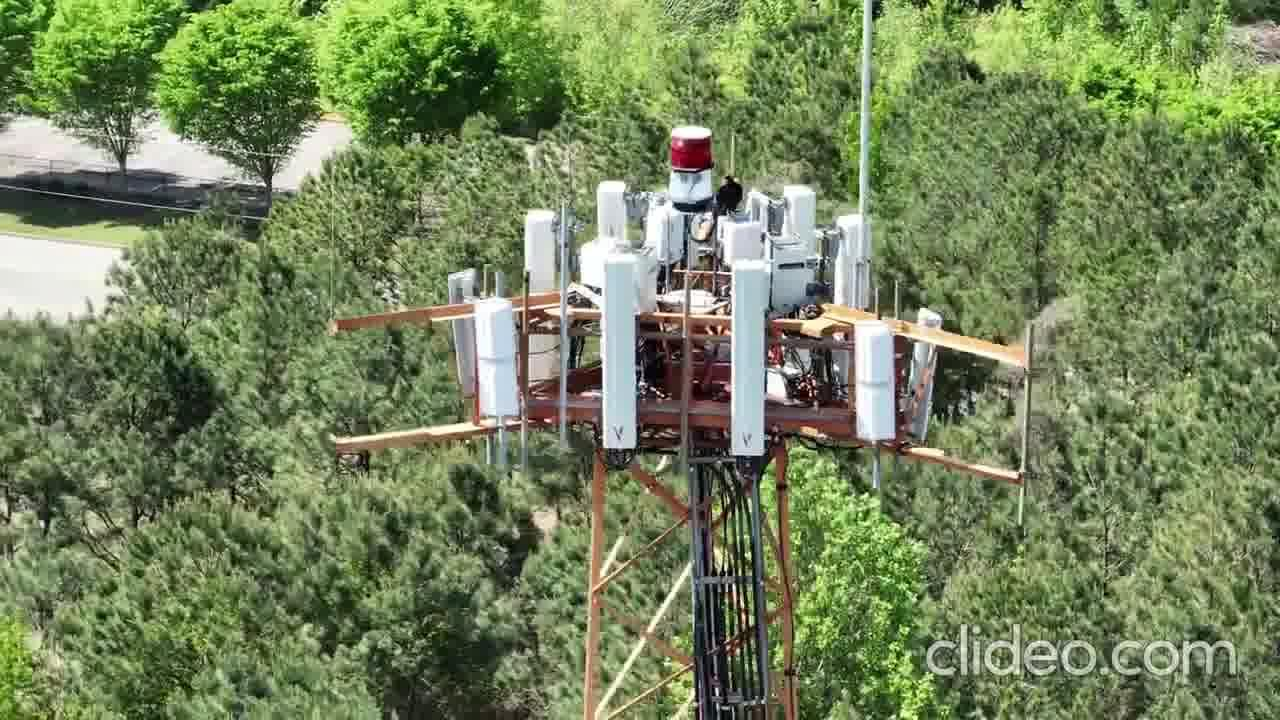antenna: (723, 250, 790, 482), (583, 237, 648, 459), (843, 309, 915, 449), (444, 267, 493, 396), (479, 301, 528, 424), (521, 207, 570, 298), (591, 179, 639, 248)
